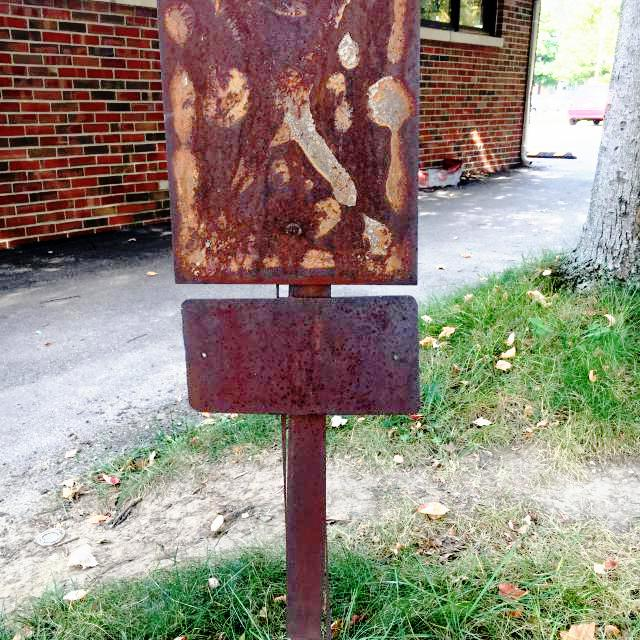Corrosion: (157, 0, 419, 640), (283, 104, 356, 206)
